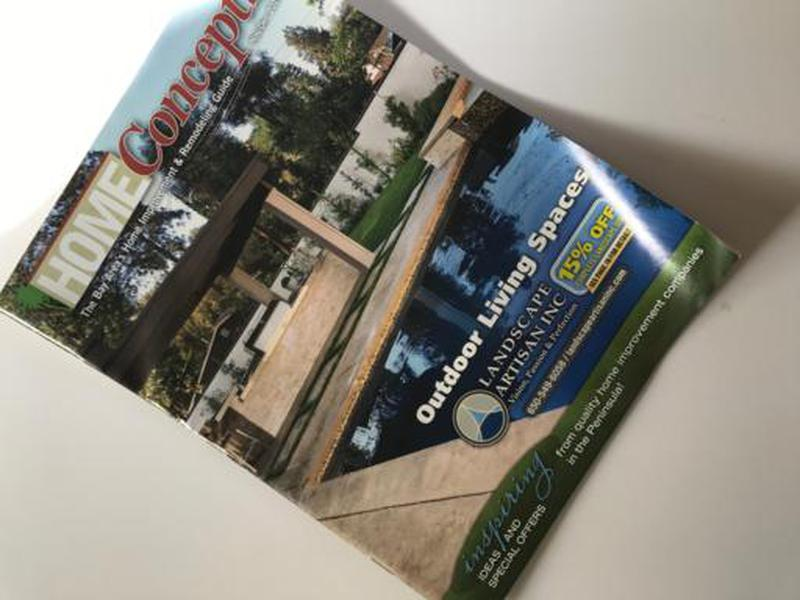paper: (1, 1, 746, 600)
